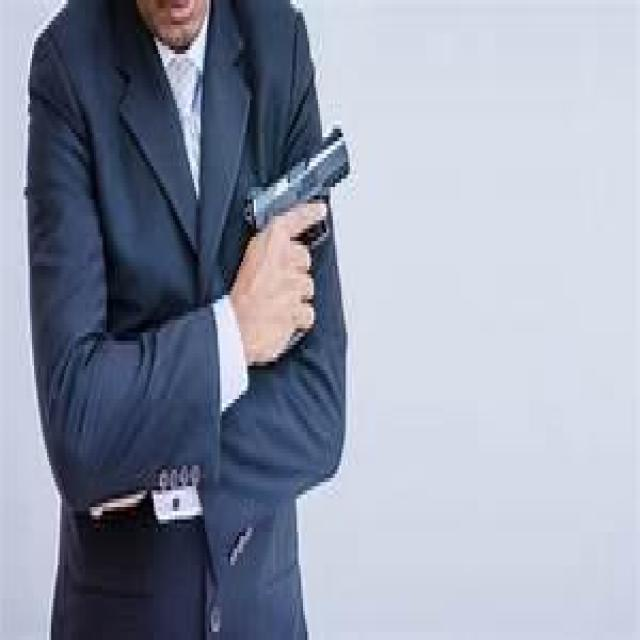Handgun: (246, 120, 356, 338)
